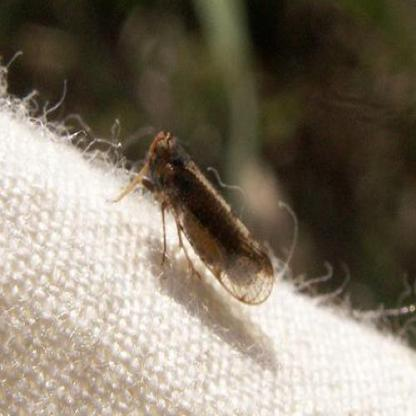brown-planthopper: (130, 130, 276, 306)
